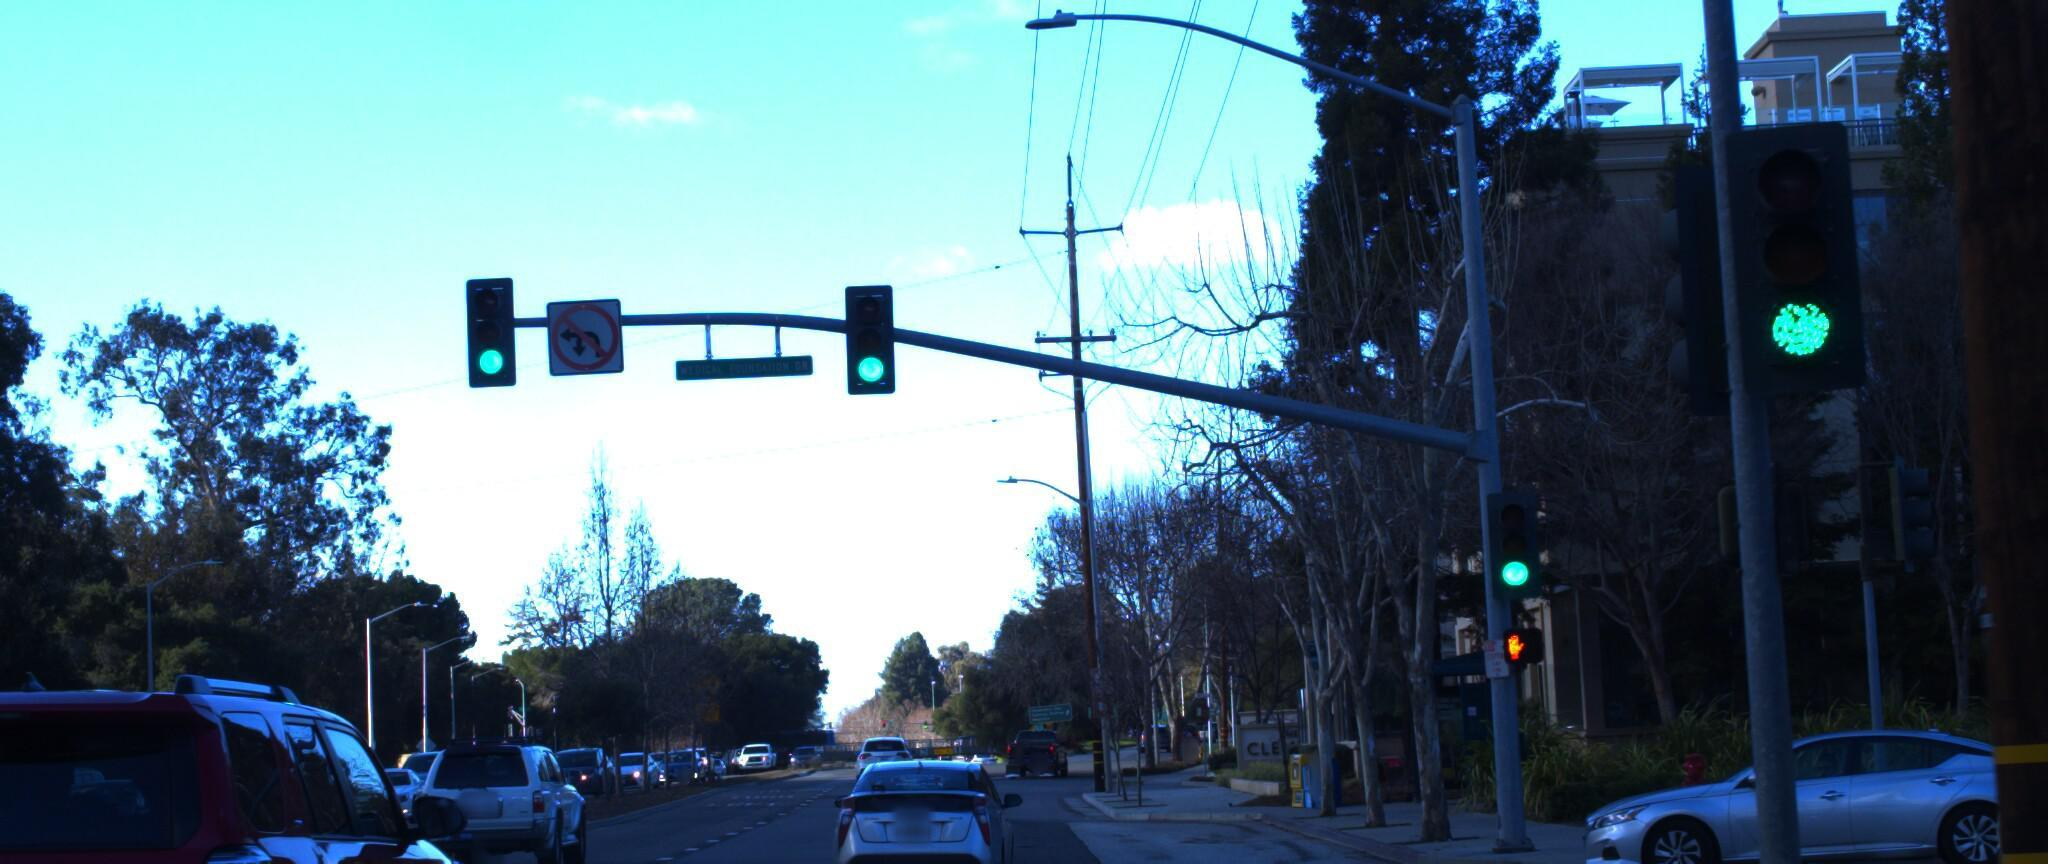car: (0, 634, 533, 864), (1556, 700, 2048, 864), (400, 717, 618, 864), (825, 743, 1031, 864), (1955, 651, 2048, 864)
